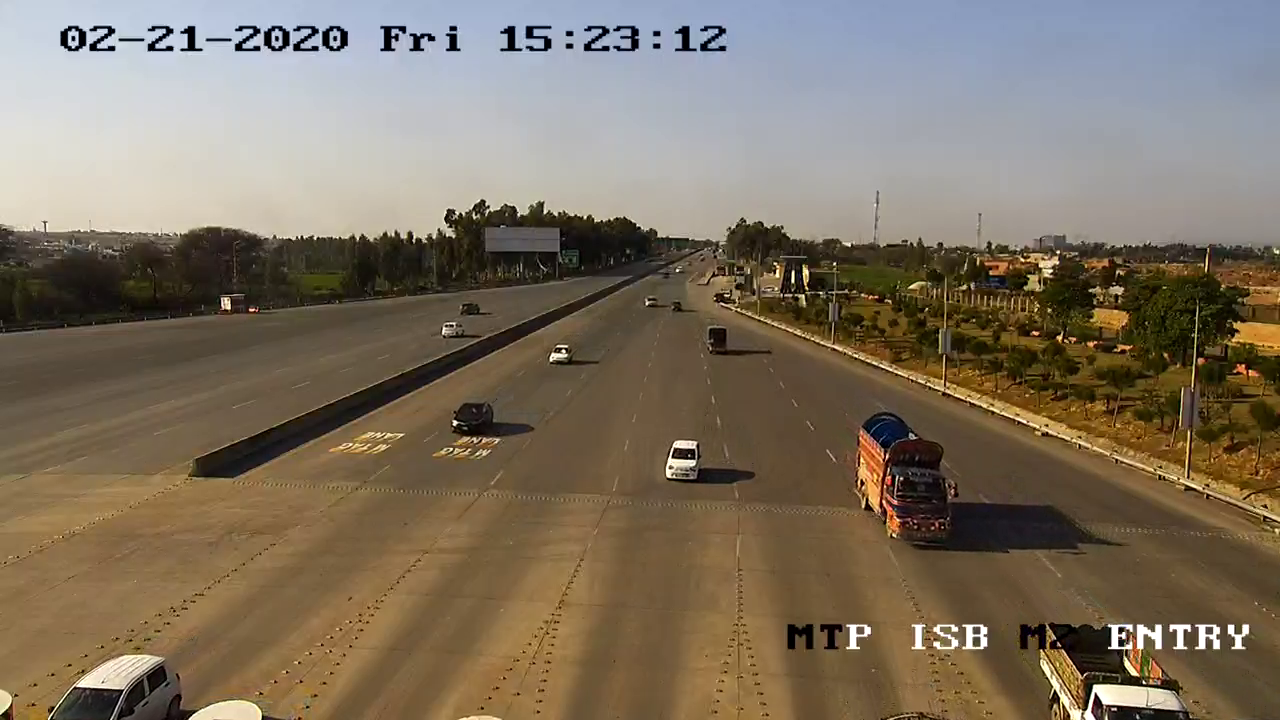f1: (658, 433, 713, 487), (445, 397, 500, 444)
f5: (850, 406, 977, 562)
